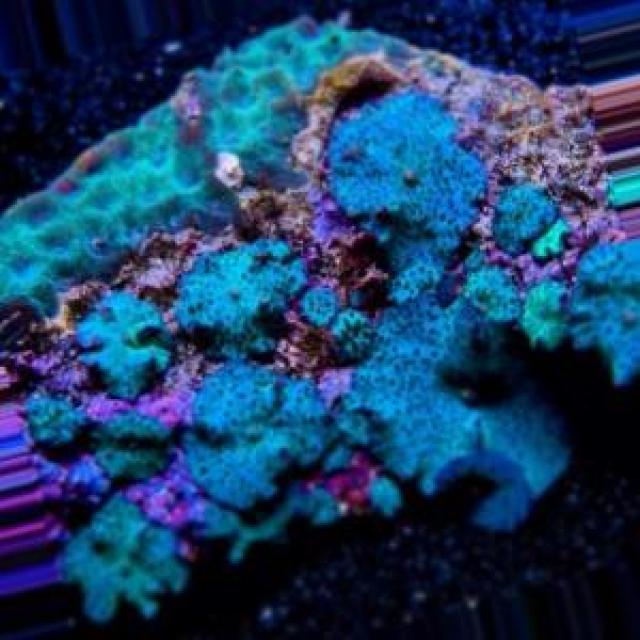healthy coral: (0, 19, 640, 639)
